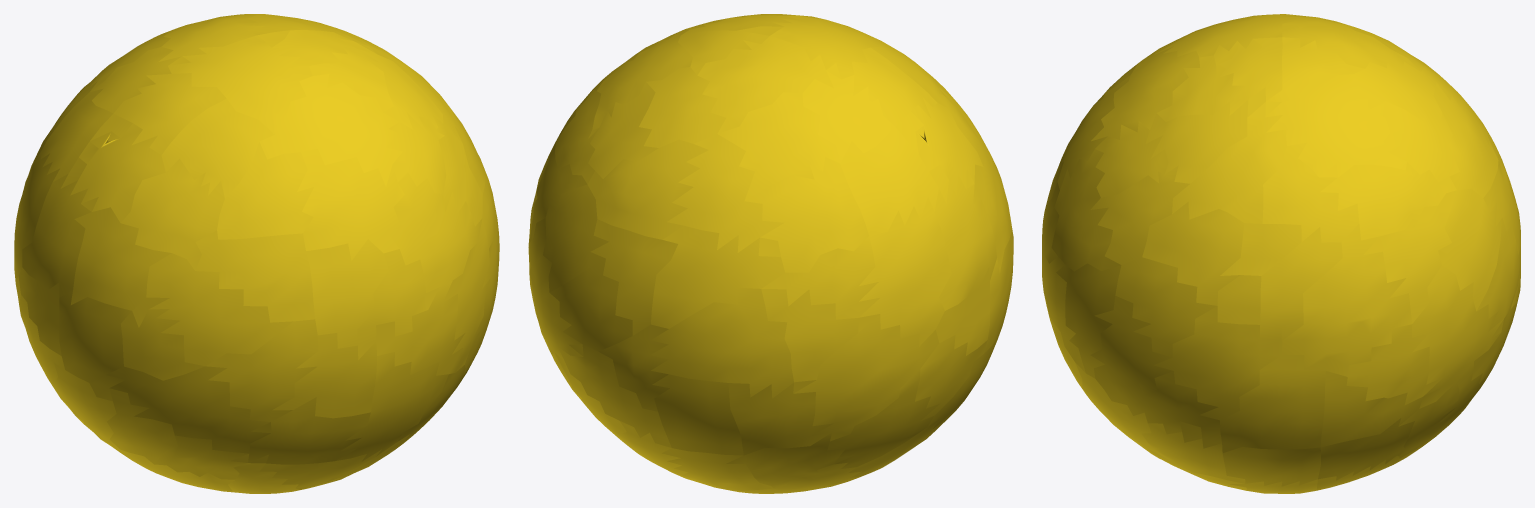
File: ball.glb
3 views of the same model, side by side, from view 1: azimuth 30°, elevation 25°; view 2: azimuth 150°, elevation 25°; view 3: azimuth 270°, elevation 25° (orthographic).
Visible parts, largest first — view 1: Mesh_0; view 2: Mesh_0; view 3: Mesh_0.
Part boxes in pixels (x1=…): Mesh_0: x1=14, y1=14, x2=499, y2=493; Mesh_0: x1=528, y1=14, x2=1013, y2=493; Mesh_0: x1=1042, y1=14, x2=1520, y2=493.
Size of the model in its own units: 0.5917 by 0.5916 by 0.5917.
